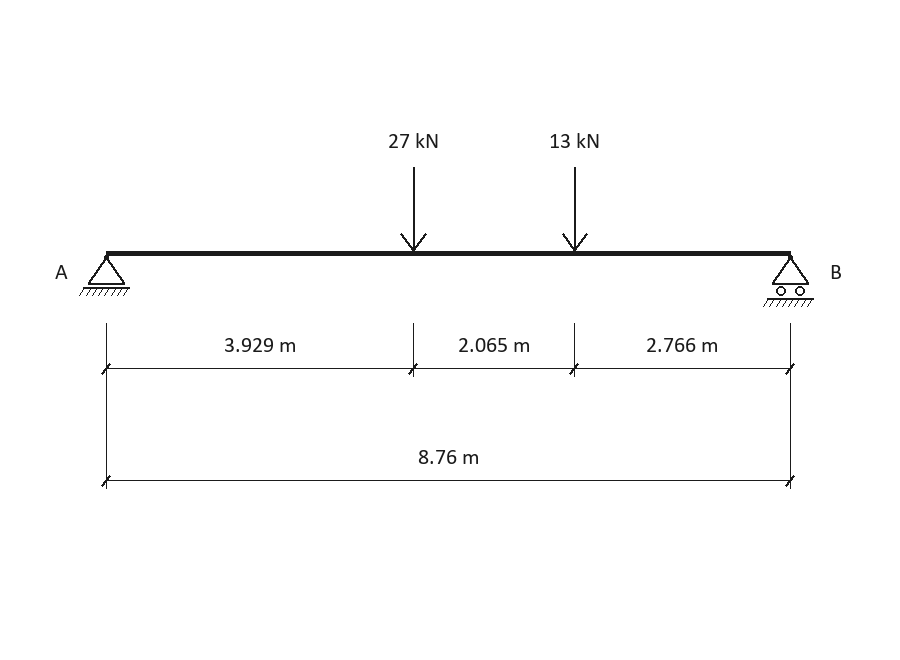pin_support: (79, 255, 130, 296)
point_load: (400, 167, 427, 252), (562, 167, 588, 252)
roller_support: (763, 255, 814, 307)
